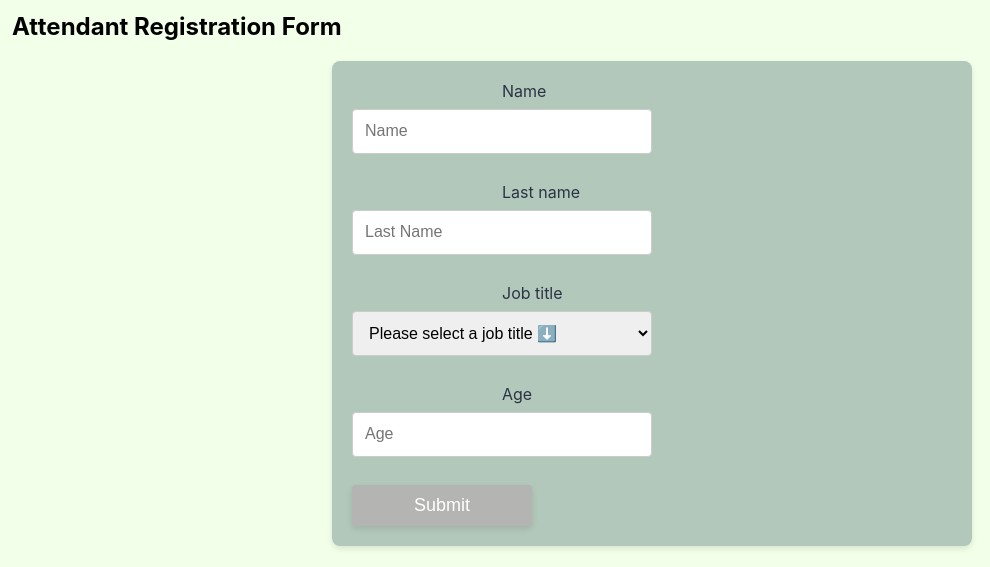
Test: <AttendantForm /> › clears all fields and disables button when clicking on submit button
In the field with placeholder "Name": (502, 131) [352, 109, 652, 154], type "John"
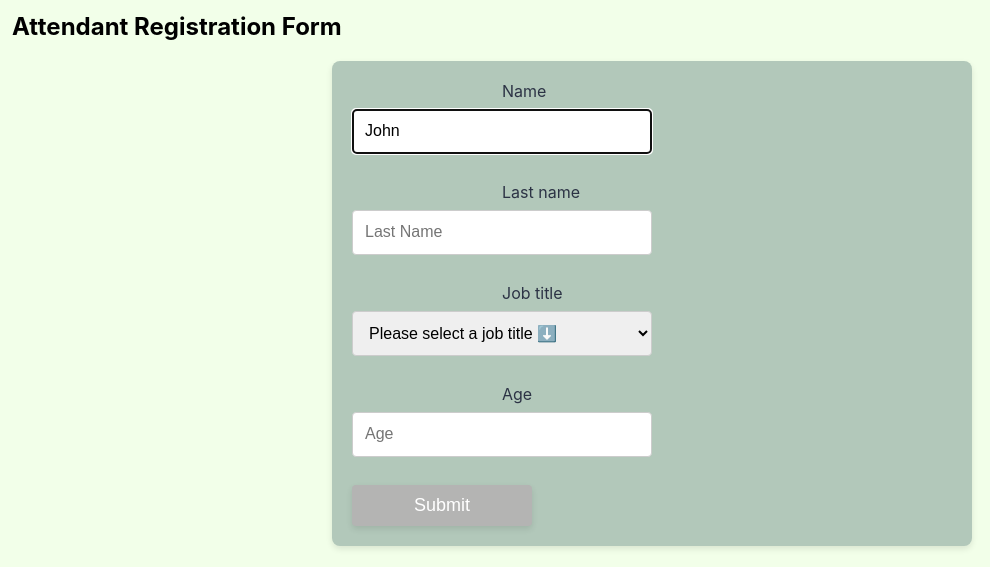
In the field with placeholder "Last Name": (502, 232) [352, 210, 652, 255], type "Doe"
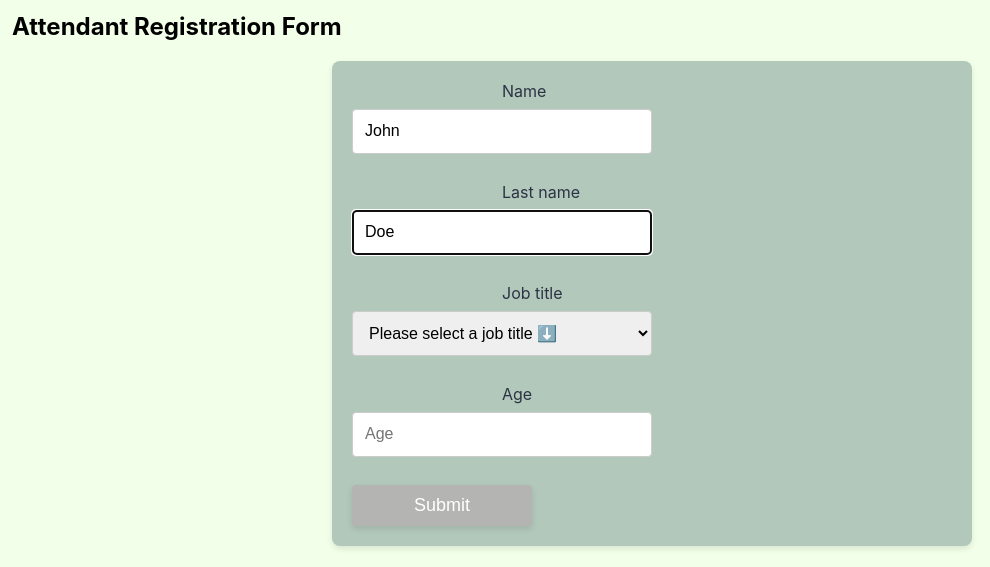
Select "Engineer" in the dropdown with test id "job-title": (502, 333) [352, 311, 652, 356]
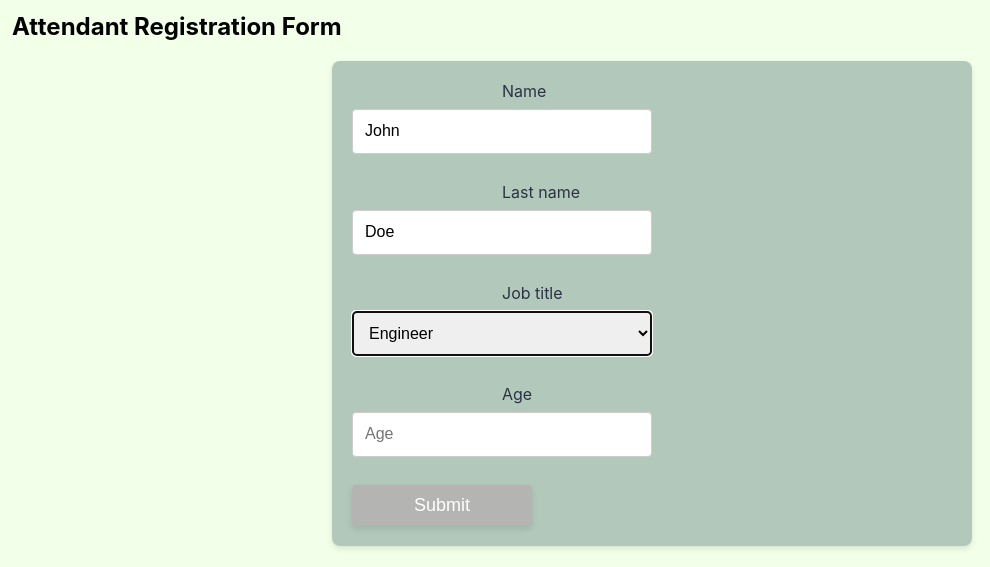
In the number field with placeholder "Age": (502, 434) [352, 412, 652, 457], type "40"
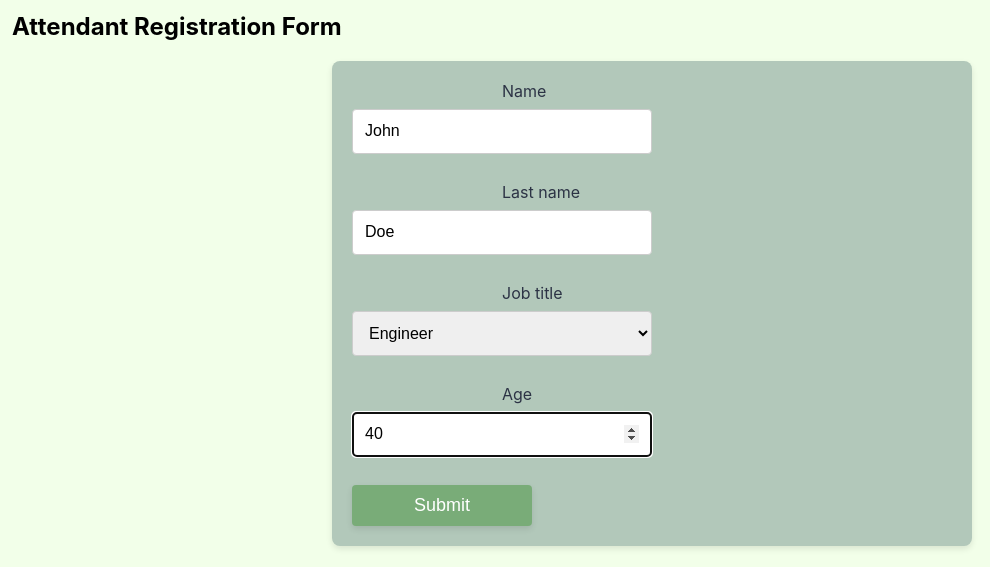
Click the button "Submit": (442, 505) [352, 485, 532, 526]
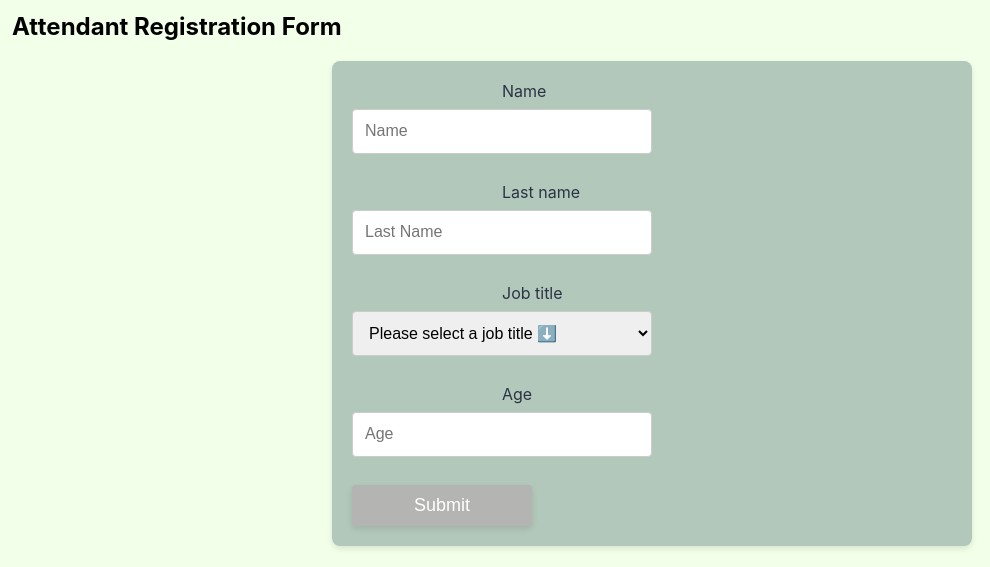
expect the field with placeholder "Name" is empty: met, box [352, 109, 652, 154]
expect the field with placeholder "Last Name" is empty: met, box [352, 210, 652, 255]
expect the button "Submit" is disabled: met, box [352, 485, 532, 526]
